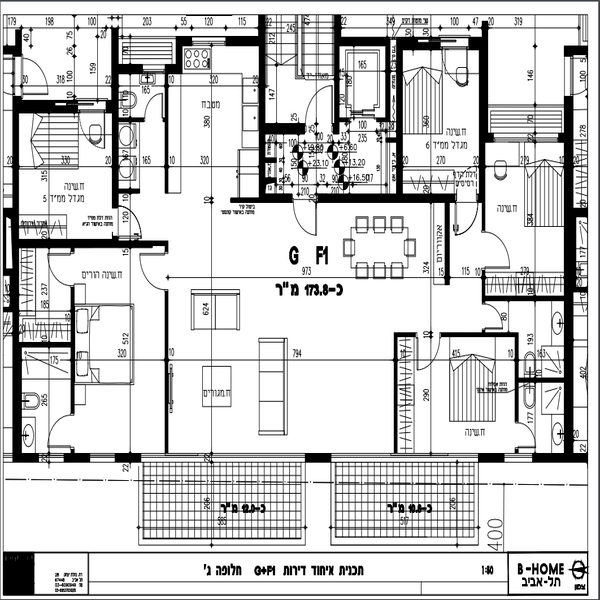door: (298, 80, 339, 130), (476, 227, 516, 274), (289, 198, 329, 243), (138, 246, 177, 291), (107, 202, 153, 238), (44, 254, 90, 288), (17, 57, 54, 95), (413, 331, 444, 376), (473, 301, 512, 335), (450, 196, 479, 236), (142, 89, 164, 119), (512, 421, 535, 447)
room: (6, 240, 176, 462), (163, 26, 271, 203), (13, 95, 124, 250), (478, 131, 575, 303), (392, 335, 528, 456), (392, 35, 485, 202), (267, 36, 348, 138)
wall: (564, 95, 577, 459), (11, 275, 27, 457), (106, 32, 122, 208), (159, 293, 175, 453), (254, 13, 267, 197), (9, 90, 23, 247), (477, 24, 489, 207), (389, 331, 405, 455), (395, 32, 407, 194), (19, 239, 168, 249), (441, 196, 457, 284), (318, 194, 458, 204), (162, 72, 173, 197), (509, 328, 523, 421), (67, 283, 77, 412), (381, 26, 392, 123), (21, 97, 77, 115), (482, 294, 565, 306), (265, 120, 308, 142), (437, 329, 522, 339), (17, 338, 77, 352), (513, 373, 567, 387), (170, 39, 189, 75), (339, 37, 395, 49), (227, 34, 260, 50)
window: (187, 32, 222, 49), (87, 449, 116, 468), (37, 451, 69, 468), (504, 452, 531, 464)
